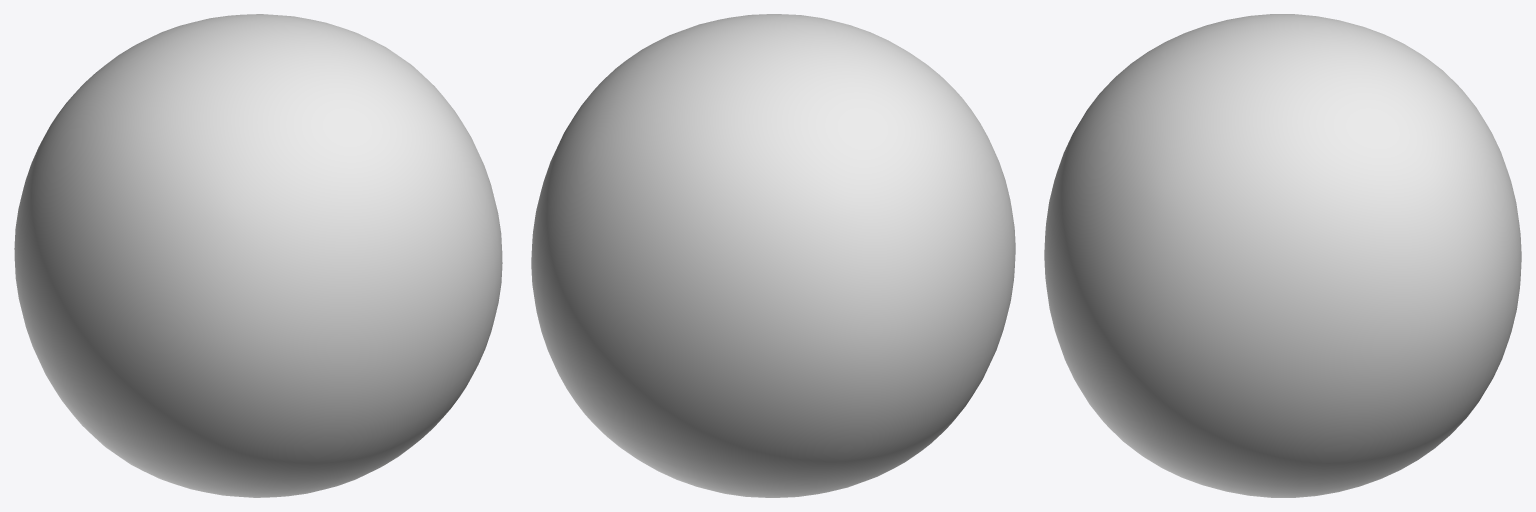
3 views of the same model, side by side, from view 1: azimuth 30°, elevation 25°; view 2: azimuth 150°, elevation 25°; view 3: azimuth 270°, elevation 25° (orthographic).
Parts seen in each view (by area): view 1: Cube.034; view 2: Cube.034; view 3: Cube.034.
Boxes of the visible parts, x1,y1,x2,y2 form: Cube.034: (14, 14, 502, 497); Cube.034: (531, 14, 1015, 497); Cube.034: (1044, 14, 1521, 497).
Bounding box in the file's own units: 2.75 × 2.74 × 2.75.
Materials: 1 (1 with a texture image).
